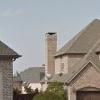Chimney: (37, 26, 60, 66)
